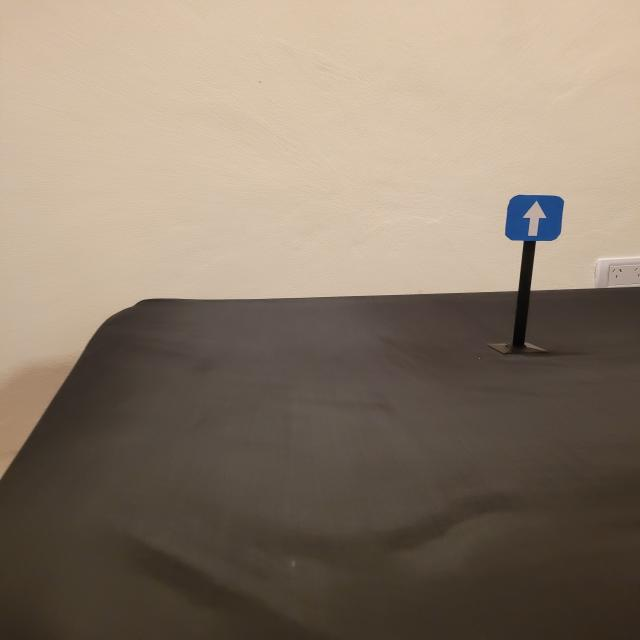one_way: (504, 194, 564, 242)
